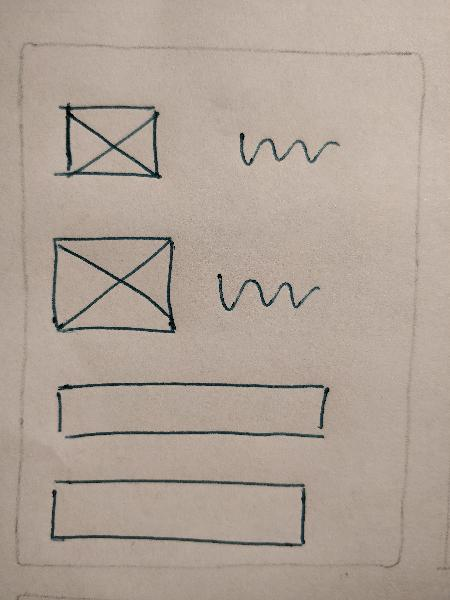image: (43, 226, 183, 346), (47, 92, 172, 193)
text: (222, 117, 353, 184), (200, 261, 331, 328)
text_input: (51, 370, 339, 451), (40, 471, 328, 552)
